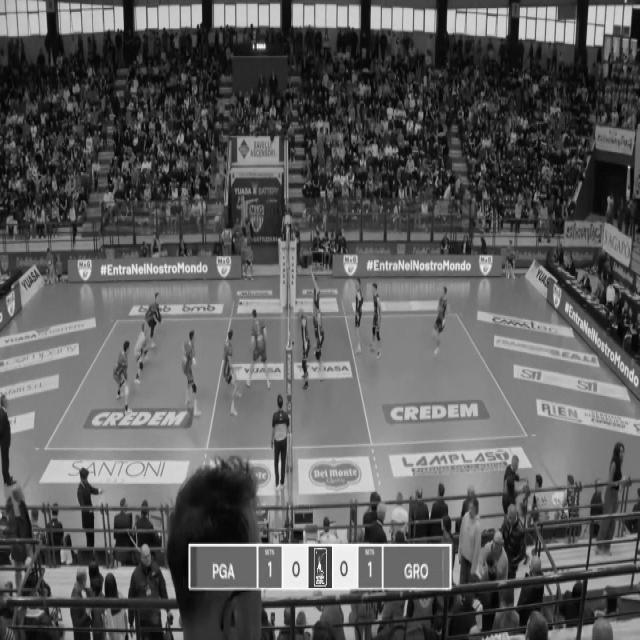volleyball court: (44, 309, 529, 451)
